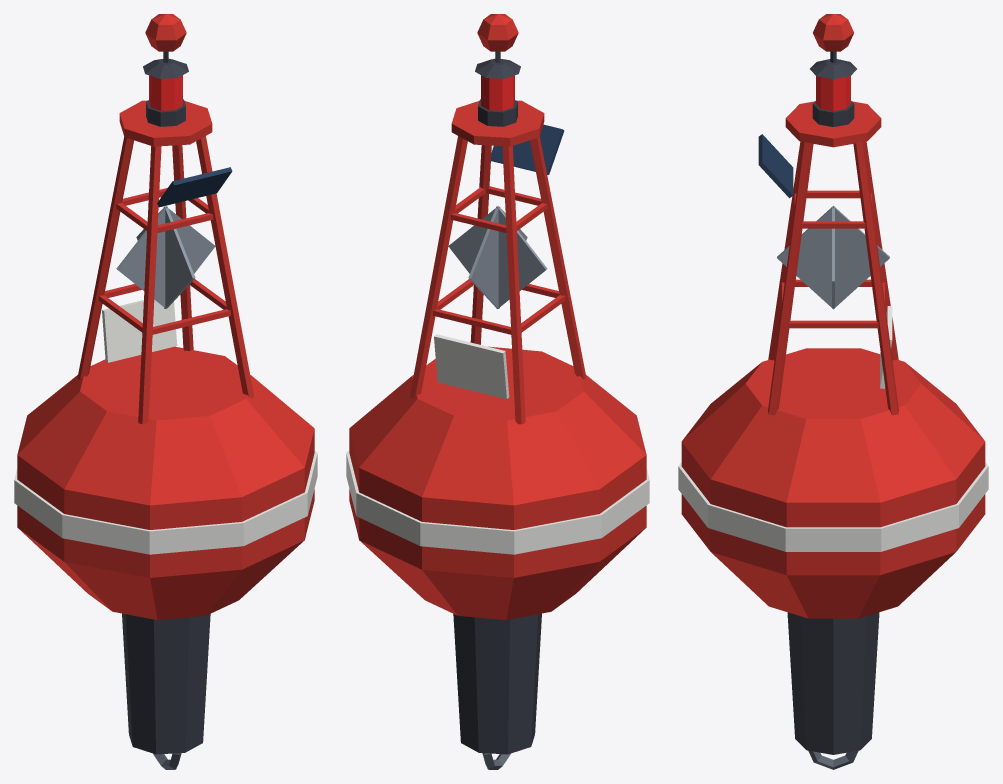
Rendered from buoy.glb.
The picture shows the model from 3 angles, left to right: view 1: azimuth 30°, elevation 25°; view 2: azimuth 150°, elevation 25°; view 3: azimuth 270°, elevation 25°; orthographic projection.
Visible parts, largest first — view 1: Buoy; view 2: Buoy; view 3: Buoy.
Boxes of the visible parts, bbox=[...] form: Buoy: bbox=[14, 14, 317, 769]; Buoy: bbox=[346, 14, 649, 769]; Buoy: bbox=[678, 14, 988, 769].
Bounding box in the file's own units: 1.85 × 5.22 × 1.94.
